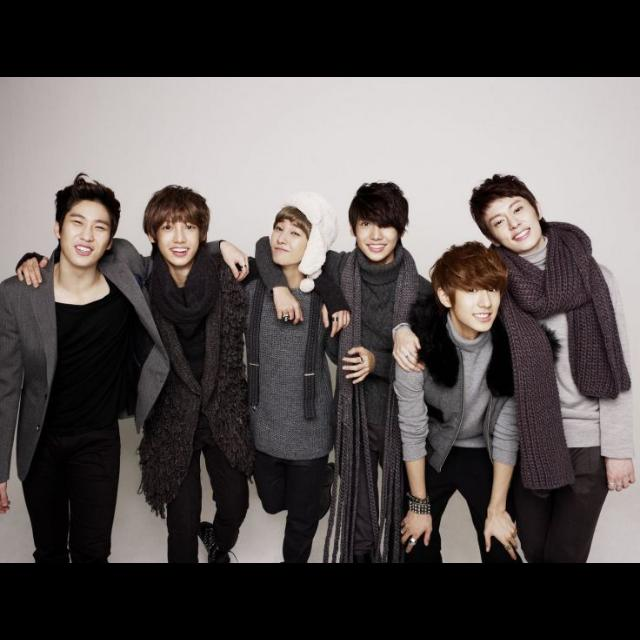head: (434, 244, 506, 334), (54, 185, 120, 267), (480, 180, 544, 254), (146, 190, 208, 266), (348, 186, 408, 264), (269, 203, 329, 269)
